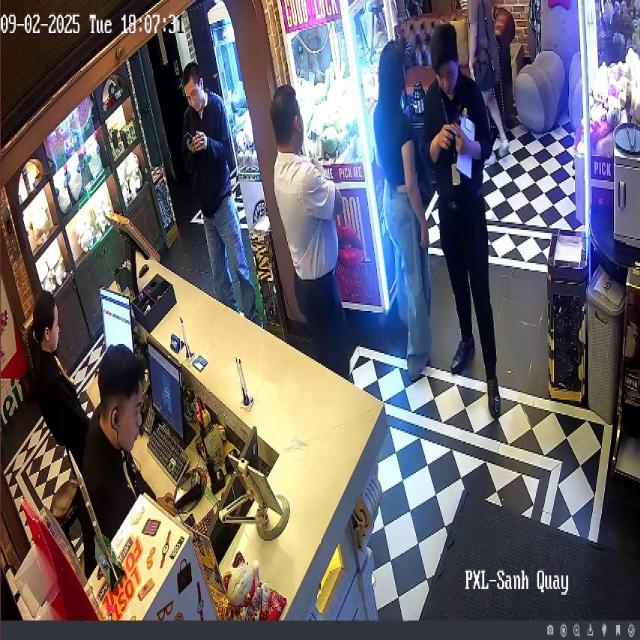khach: (267, 84, 360, 393), (371, 35, 434, 382), (179, 65, 251, 322), (460, 0, 513, 165)
nhan vien: (424, 21, 508, 417), (86, 340, 151, 555), (26, 287, 93, 475)
